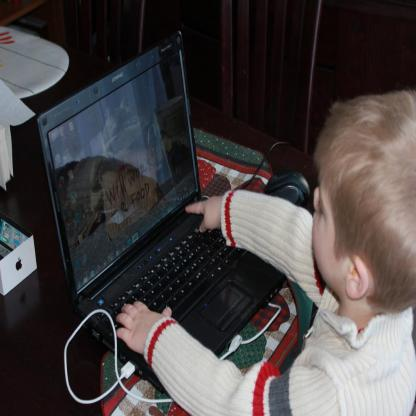board: (35, 48, 291, 397)
